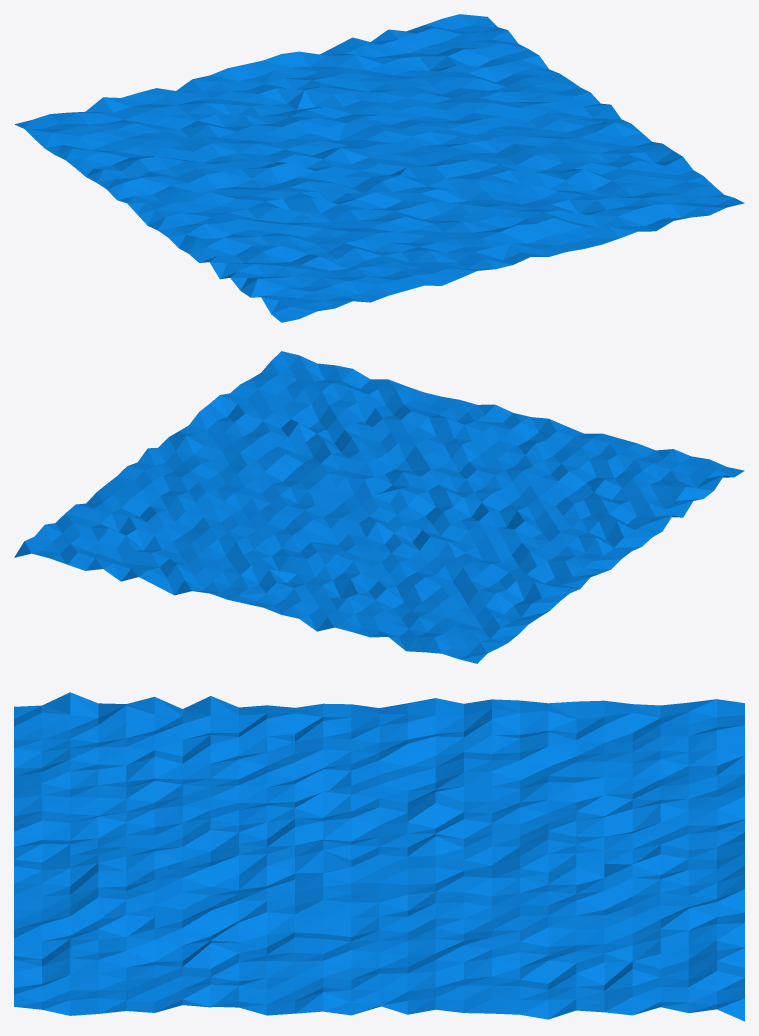
File: Low Poly Water.fbx
The picture shows the model from 3 angles, top to bottom: view 1: azimuth 30°, elevation 25°; view 2: azimuth 150°, elevation 25°; view 3: azimuth 270°, elevation 25°; orthographic projection. The views are drawn at different scales.
Visible parts, largest first — view 1: Low Poly Water; view 2: Low Poly Water; view 3: Low Poly Water.
Part boxes in pixels (<box>): Low Poly Water: <box>14,14,744,322</box>; Low Poly Water: <box>14,351,744,663</box>; Low Poly Water: <box>14,692,744,1021</box>.
Bounding box in the file's own units: 958 × 31.12 × 958.
